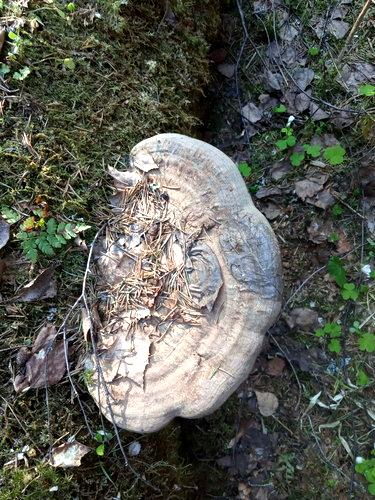Ganoderma - Fruit Body: (88, 125, 283, 453)
